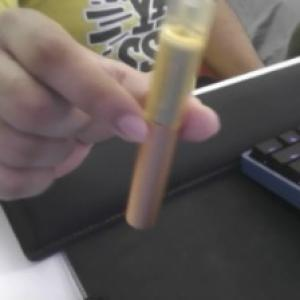Golden-E-Ciggirate: (123, 0, 217, 232)
